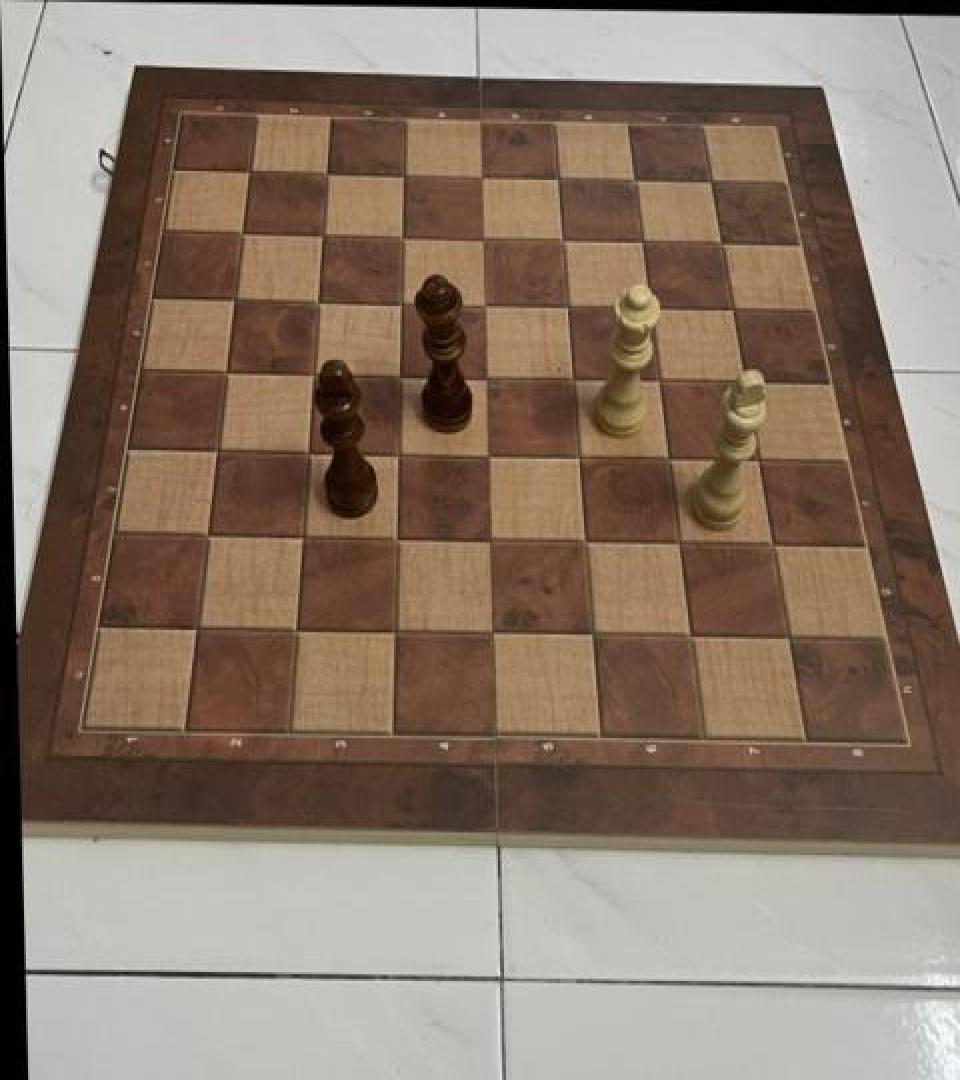xcorner: (462, 157, 496, 196), (385, 156, 419, 195), (308, 155, 342, 194), (464, 219, 498, 258), (715, 290, 749, 329), (209, 353, 243, 392), (470, 436, 504, 475), (694, 162, 728, 200), (616, 161, 650, 199), (539, 159, 573, 197), (232, 154, 266, 192), (704, 224, 738, 262), (624, 223, 658, 261), (544, 220, 578, 258), (384, 218, 418, 256), (304, 217, 338, 255), (225, 215, 259, 253), (632, 289, 666, 327), (549, 288, 583, 326), (466, 286, 500, 324), (383, 285, 417, 323), (300, 284, 334, 322), (217, 282, 251, 320), (727, 364, 761, 402), (641, 361, 675, 399), (554, 360, 588, 398), (468, 358, 502, 396), (382, 357, 416, 395), (295, 356, 329, 394), (741, 441, 775, 479), (650, 440, 684, 478), (560, 438, 594, 476), (380, 434, 414, 472), (290, 433, 324, 471), (200, 431, 234, 469), (755, 526, 789, 564), (661, 526, 695, 564), (567, 523, 601, 561), (473, 521, 507, 559), (379, 520, 413, 558), (285, 518, 319, 556), (191, 516, 225, 554), (771, 620, 805, 658), (672, 618, 706, 656), (574, 616, 608, 654), (475, 614, 509, 652), (377, 612, 411, 650), (279, 611, 313, 649), (180, 609, 214, 647)
